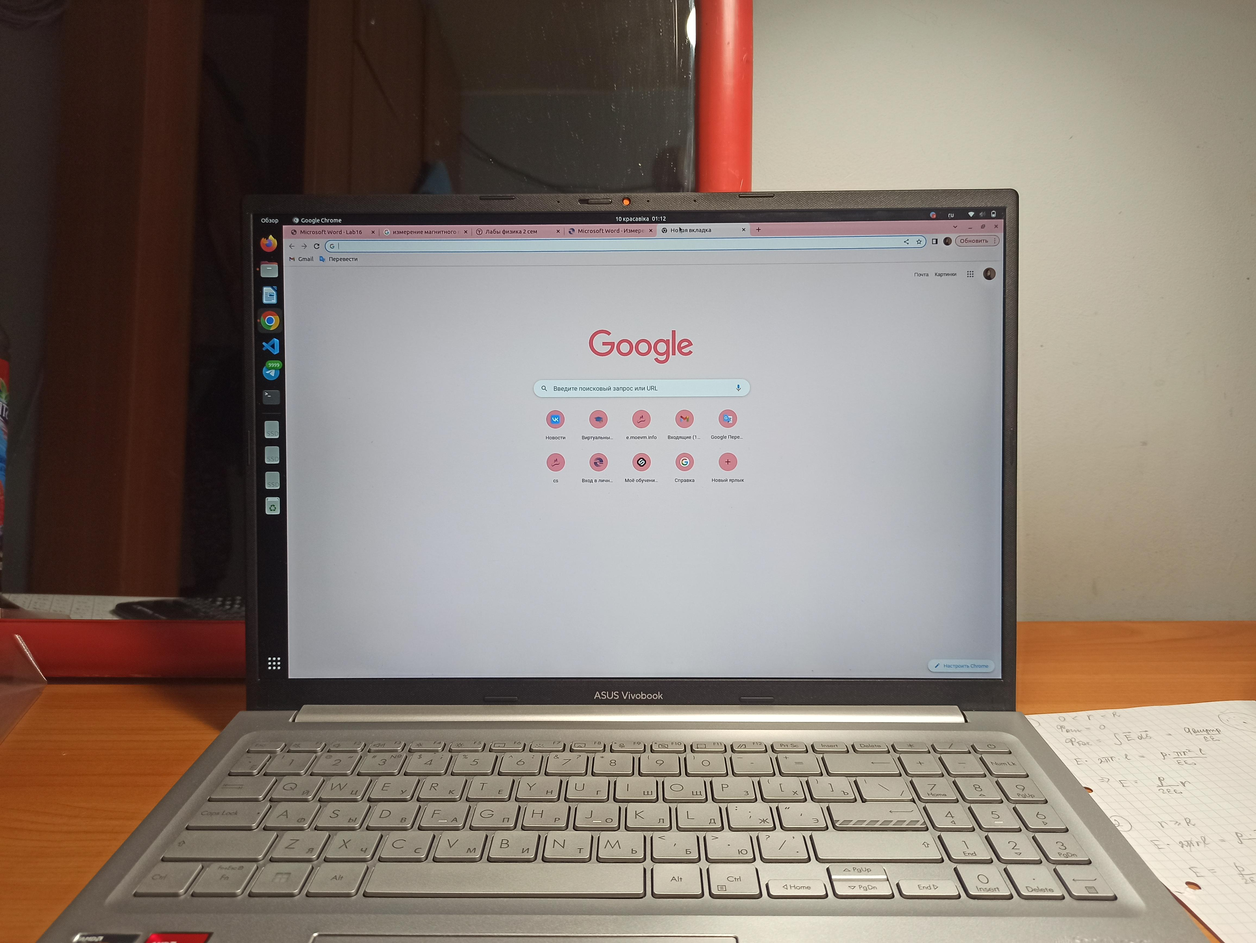monitor: (234, 186, 1028, 722)
